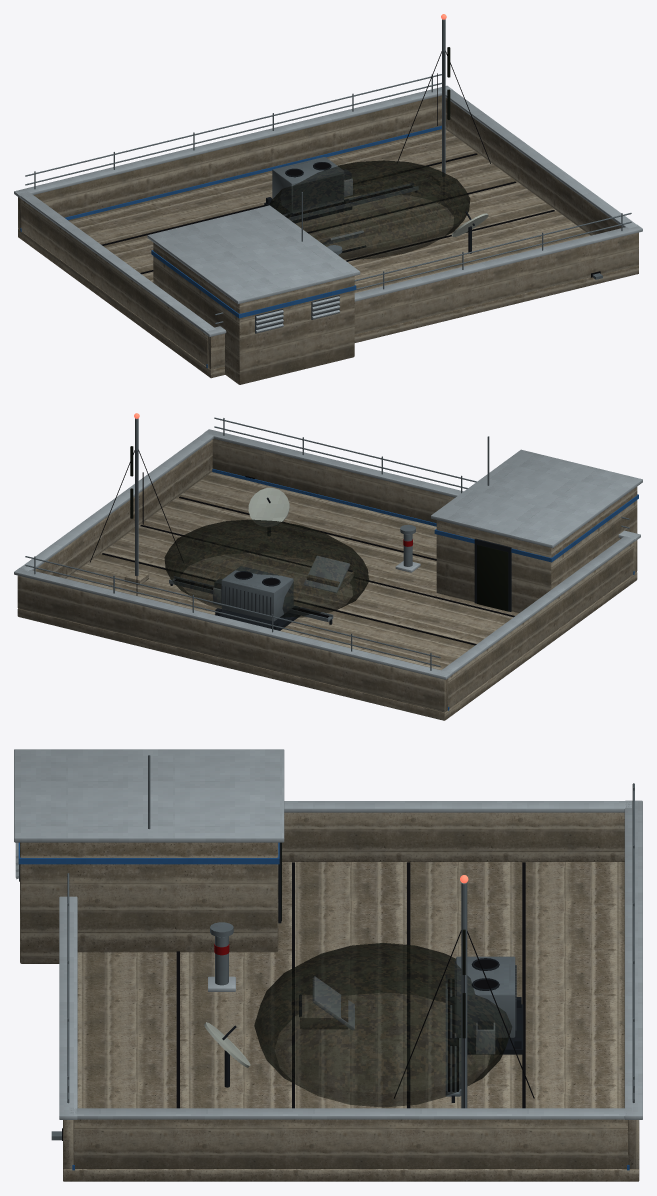
The model's file is fac_command_roof.glb.
3 renders of one model, top to bottom at view 1: azimuth 30°, elevation 25°; view 2: azimuth 150°, elevation 25°; view 3: azimuth 270°, elevation 25°, orthographic. The views are drawn at different scales.
Parts seen in each view (by area): view 1: FAC_COMMAND_ROOF; view 2: FAC_COMMAND_ROOF; view 3: FAC_COMMAND_ROOF.
Part boxes in pixels (x1,y1,x2,y2): FAC_COMMAND_ROOF: [14, 14, 642, 384]; FAC_COMMAND_ROOF: [14, 413, 642, 720]; FAC_COMMAND_ROOF: [14, 749, 642, 1181].
Bounding box in the file's own units: 13.86 × 5.58 × 11.68.
12 materials, 11 textured.
